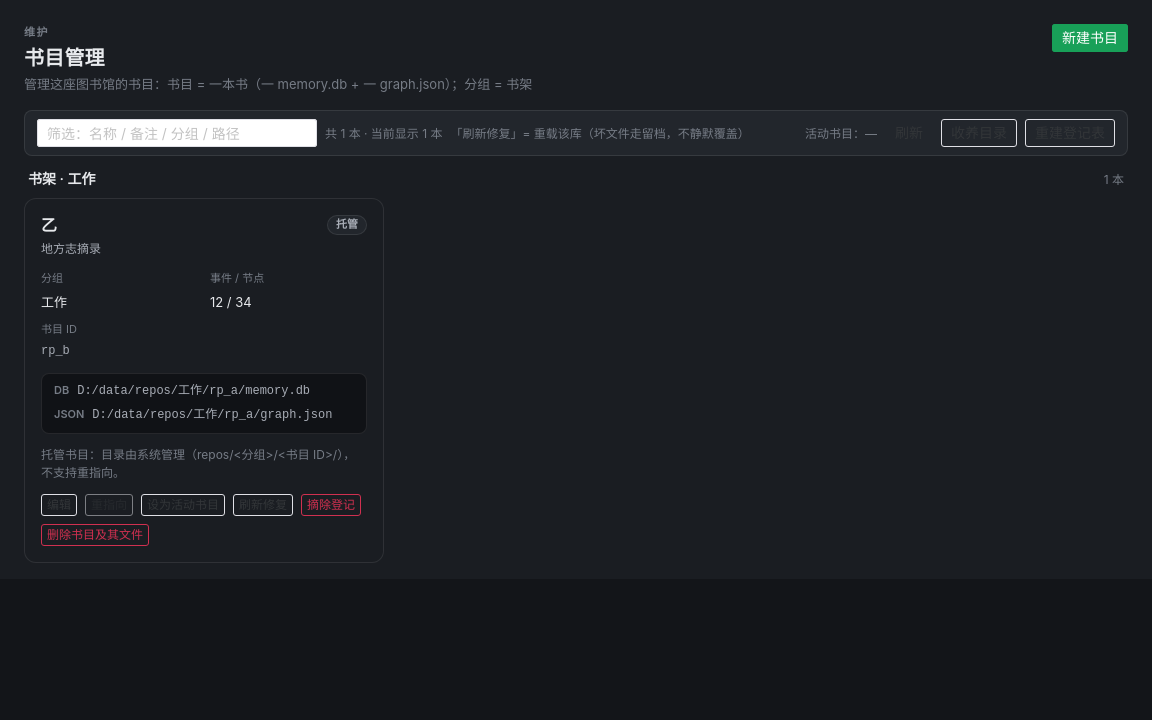
ReposPage（书目管理） › 删除书目及其文件：二次确认后调 purge，并把备份路径显示出来
Click the button "删除书目及其文件" at (95, 535), box [41,524,149,546]
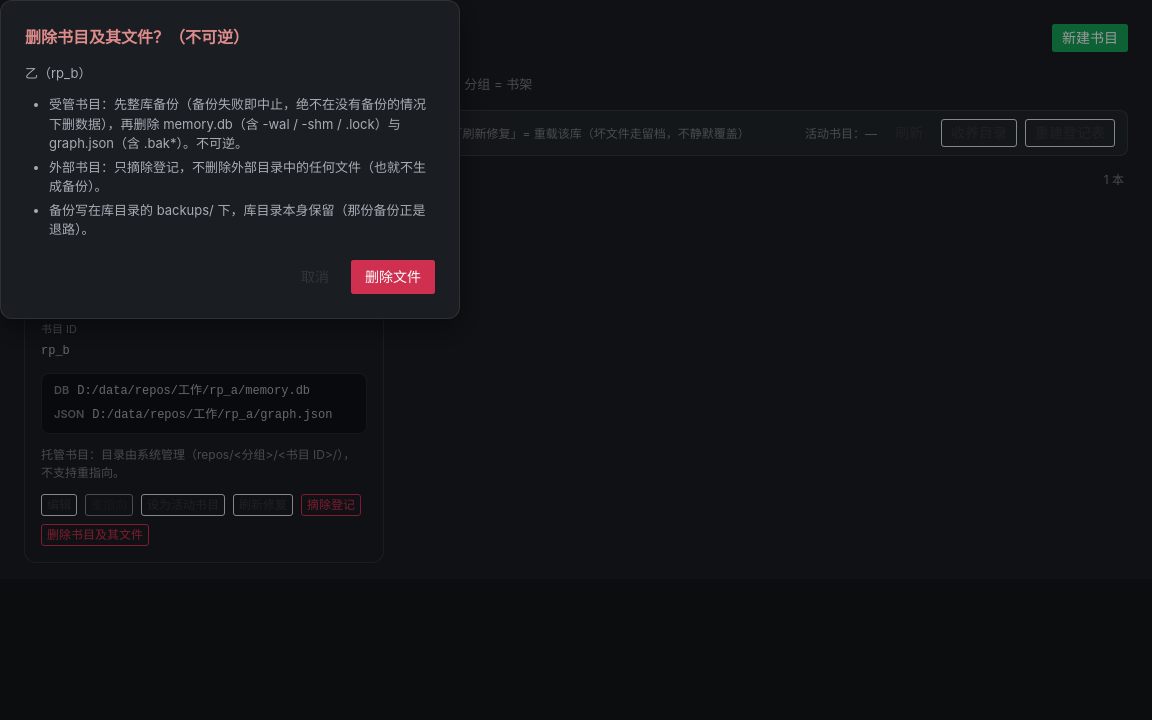
Now the text "删除书目及其文件？（不可逆）" is shown, box [25,27,249,47]
Now the button "删除文件" is shown
Click the button "删除文件" at (393, 277), box [351,260,435,294]
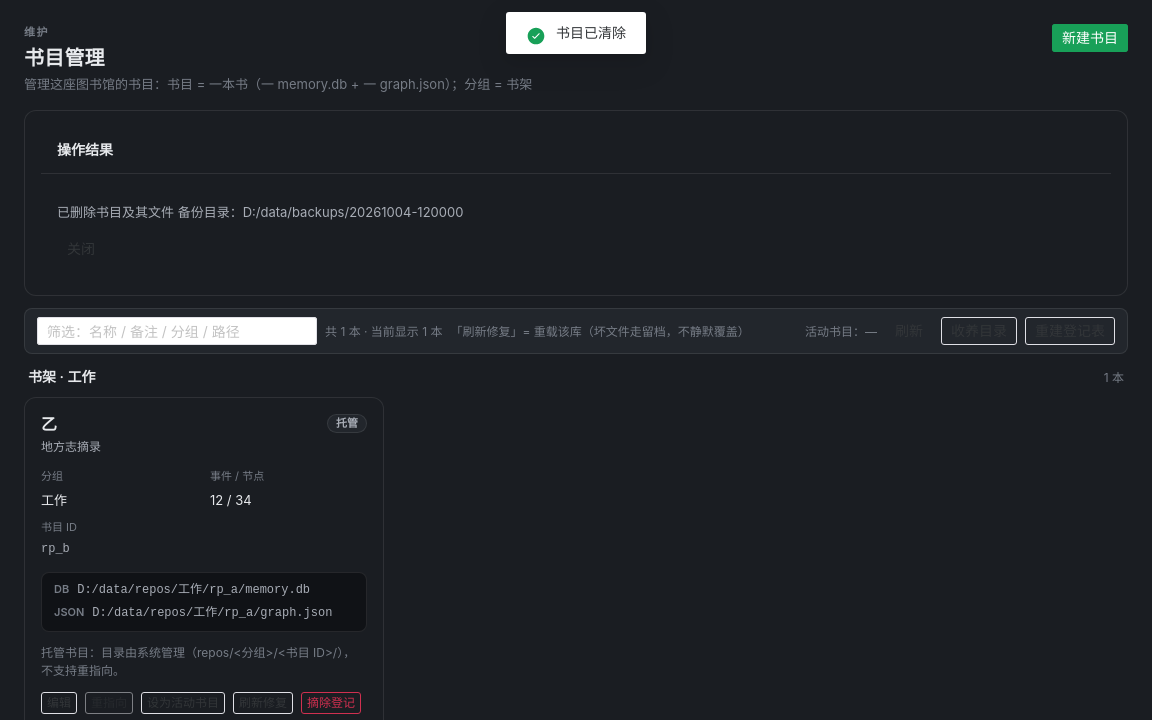
Now the text "D:/data/backups/20261004-120000" is shown, box [57,204,463,220]
